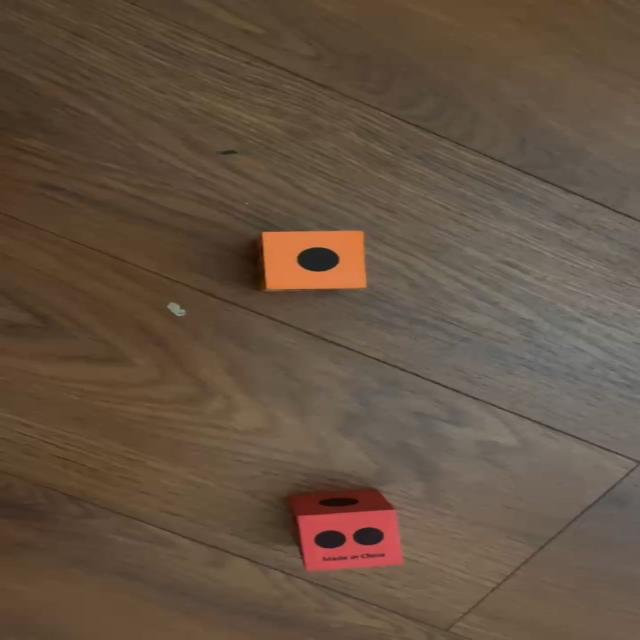red_block: (289, 487, 407, 571)
